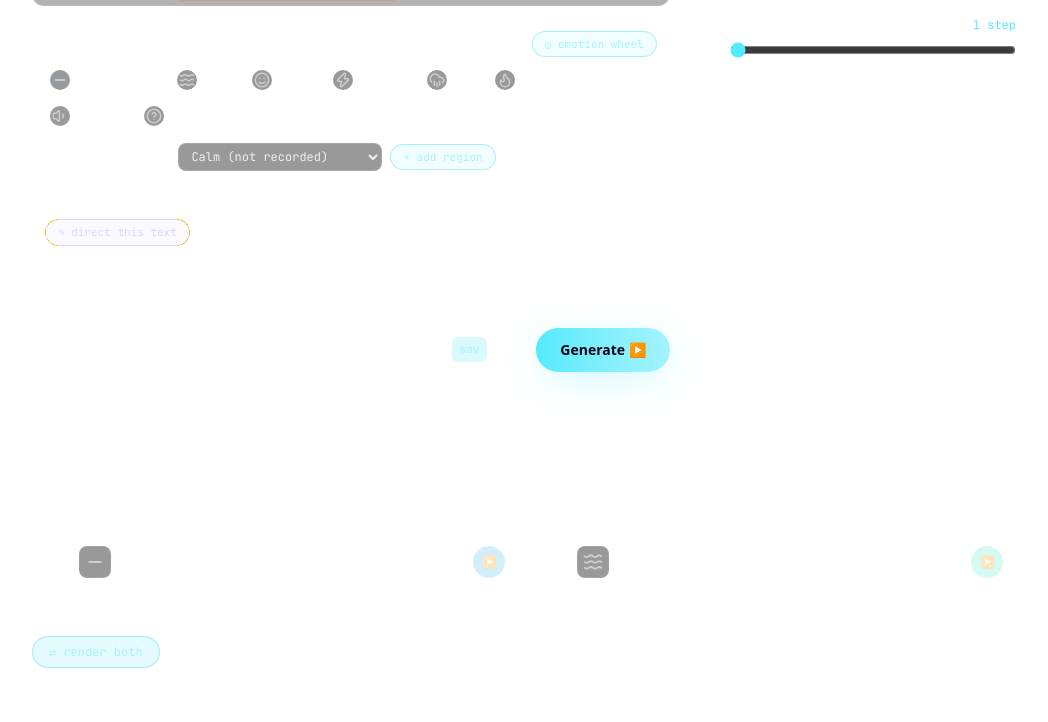
Test: PlaygroundConsole — the queue reading says whether it is a reading › still reports a queue it can see
(page scrolled)
Click the button "Generate ▶".
click(603, 350)  # box [536,328,670,372]
(page scrolled)
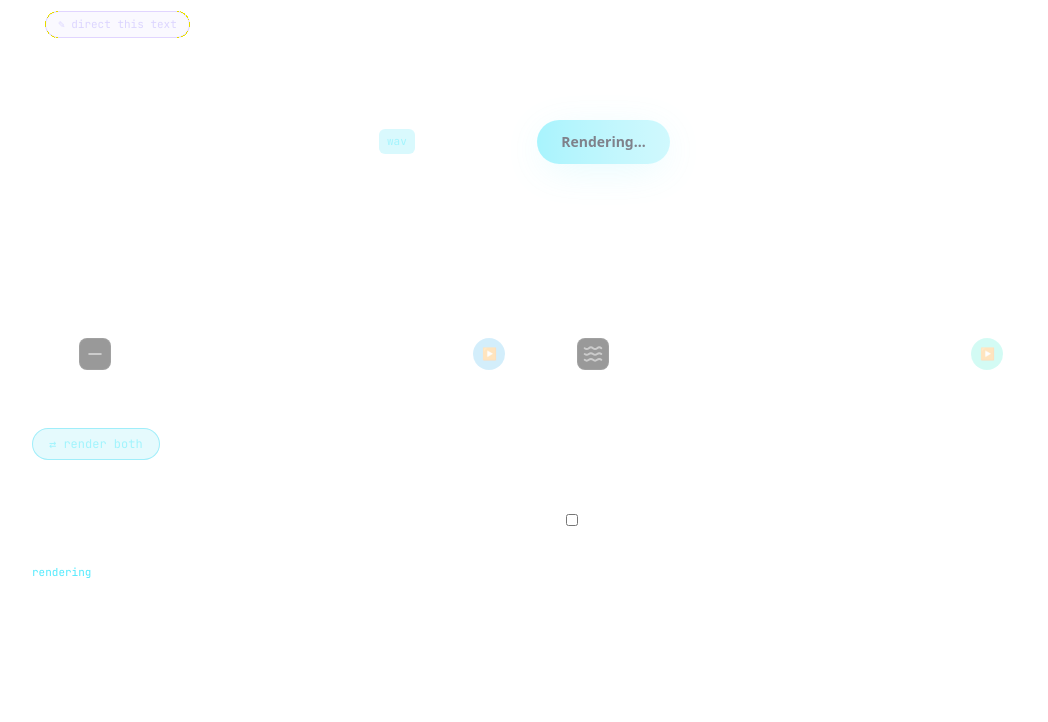
Check: the text "rendering" does not show "unavailable", box [12,541,1036,629]
Check: the text "rendering" shows "3 jobs queued ahead of the pool", box [12,541,1036,629]
Check: the text "rendering" shows "1 rendering", box [12,541,1036,629]
